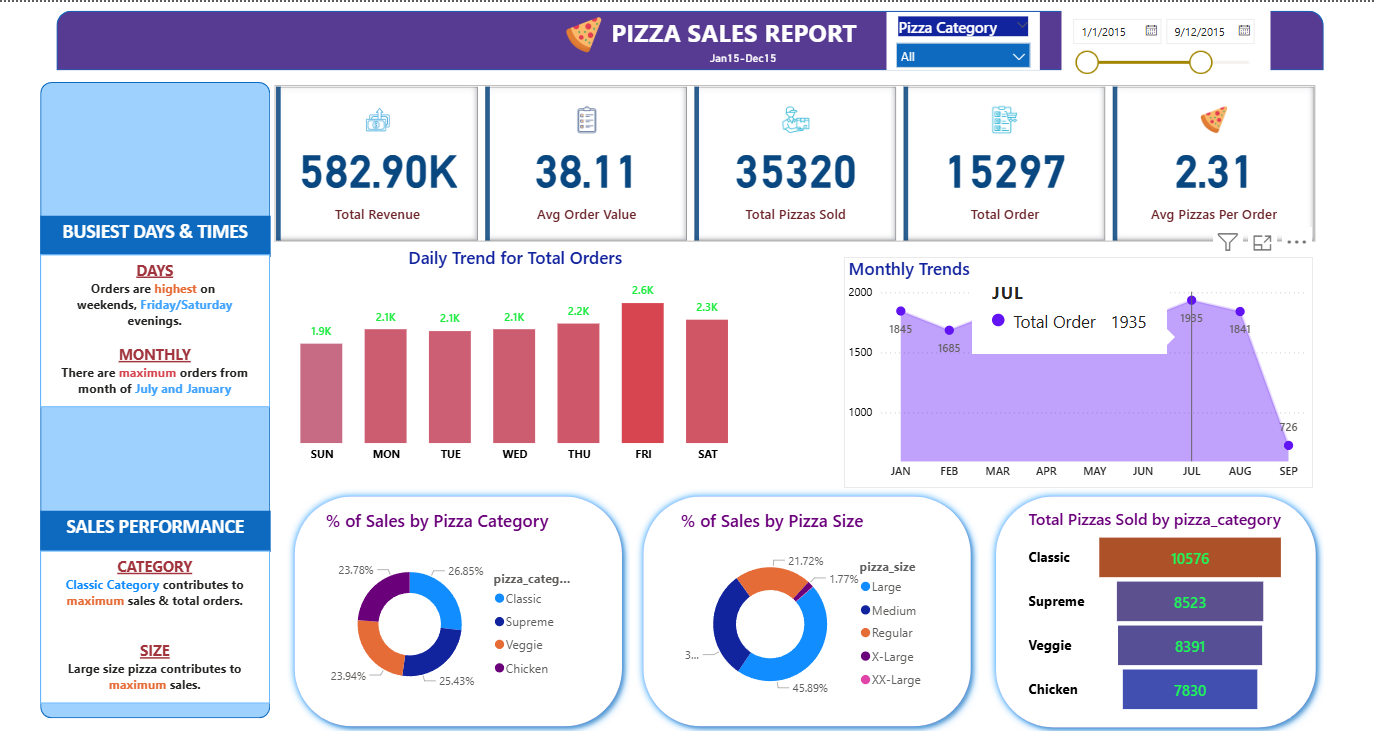

The dashboard page shown, as its layout file describes it:
{"tool":"powerbi","page":{"name":"Page 1","canvas":[1500,800],"ordinal":0},"visuals":[{"type":"cardVisual","fields":{"Data":["pizza_sales.Total Revenue","pizza_sales.Avg Order Value","pizza_sales.Total Pizzas Sold","pizza_sales.Total Order","pizza_sales.Avg Pizzas Per Order"]},"box":[295.7,85.7,1148.6,180],"z":0},{"type":"shape","box":[62.5,10,1381.2,65],"z":1000},{"type":"textbox","box":[658.8,10,286.2,50],"z":2000},{"type":"textbox","box":[770,46.2,91.2,28.8],"z":3000},{"type":"image","box":[551.2,11.2,171.2,50],"z":4000},{"type":"clusteredColumnChart","title":"Daily Trend for Total Orders","fields":{"Category":["pizza_sales.Order Day"],"Y":["pizza_sales.Total Order"]},"box":[295.7,265.7,534.2,245.3],"z":5000},{"type":"areaChart","title":"Monthly Trends for Total Orders","fields":{"Category":["pizza_sales.Order Month"],"Y":["pizza_sales.Total Order"]},"box":[921.2,278,511,252.1],"z":6000},{"type":"shape","box":[313.6,530.7,374.7,268.5],"z":7000},{"type":"shape","box":[693.1,530.7,374.7,268.5],"z":8000},{"type":"shape","box":[1077.9,530.1,366.6,269.8],"z":9000},{"type":"donutChart","title":"% of Sales by Pizza Category","fields":{"Category":["pizza_sales.pizza_category"],"Y":["pizza_sales.Total Revenue"]},"box":[352.2,551.6,284.6,228.3],"z":10000},{"type":"donutChart","title":"% of Sales by Pizza Size","fields":{"Y":["pizza_sales.Total Revenue"],"Category":["pizza_sales.pizza_size"]},"box":[738.1,551.6,284.6,228.3],"z":11000},{"type":"shape","box":[45,87.2,250.7,693.6],"z":12000},{"type":"funnel","fields":{"Category":["pizza_sales.pizza_category"],"Y":["pizza_sales.Total Pizzas Sold"]},"box":[1117.4,551.9,290.2,228.9],"z":13000},{"type":"textbox","box":[45,233,251,45],"z":14000},{"type":"textbox","box":[45,275,250,166],"z":15000},{"type":"textbox","box":[45,554,251,45],"z":16000},{"type":"textbox","box":[45,598,250,166],"z":17000},{"type":"slicer","fields":{"Values":["pizza_sales.pizza_category"]},"box":[967.1,11.4,167.1,62.9],"z":18000},{"type":"slicer","fields":{"Values":["pizza_sales.order_date"]},"box":[1158.6,8.6,227.1,75.7],"z":19000}]}

Visuals, with their boxes in screenshot pixels (x1, y1, x2, y2), scaled from the page's 1500x800 canvas onto the 1375x731 screenshot:
cardVisual - pizza_sales.Total Revenue x pizza_sales.Avg Order Value: rect(271, 78, 1324, 243)
shape: rect(57, 9, 1323, 69)
textbox: rect(604, 9, 866, 55)
textbox: rect(706, 42, 789, 69)
image: rect(505, 10, 662, 56)
"Daily Trend for Total Orders" clusteredColumnChart: rect(271, 243, 761, 467)
"Monthly Trends for Total Orders" areaChart: rect(844, 254, 1313, 484)
shape: rect(287, 485, 631, 730)
shape: rect(635, 485, 979, 730)
shape: rect(988, 484, 1324, 730)
"% of Sales by Pizza Category" donutChart: rect(323, 504, 584, 713)
"% of Sales by Pizza Size" donutChart: rect(677, 504, 937, 713)
shape: rect(41, 80, 271, 713)
funnel - pizza_sales.pizza_category x pizza_sales.Total Pizzas Sold: rect(1024, 504, 1290, 713)
textbox: rect(41, 213, 271, 254)
textbox: rect(41, 251, 270, 403)
textbox: rect(41, 506, 271, 547)
textbox: rect(41, 546, 270, 698)
slicer - pizza_sales.pizza_category: rect(887, 10, 1040, 68)
slicer - pizza_sales.order_date: rect(1062, 8, 1270, 77)
